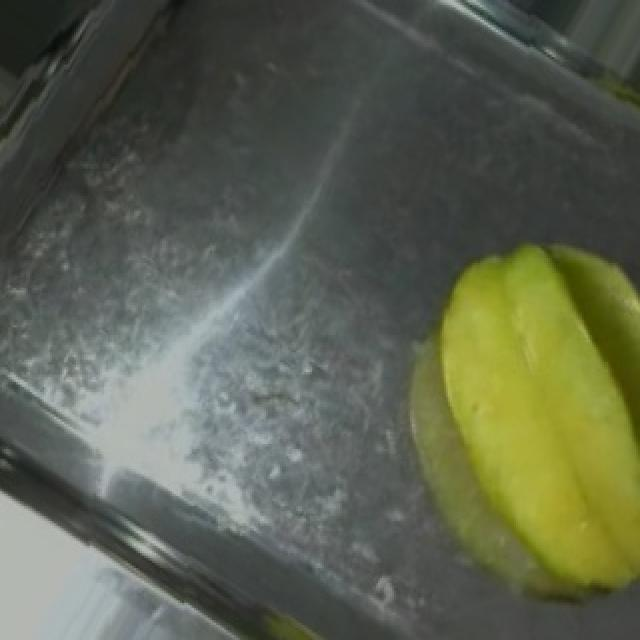fruit: (356, 203, 640, 583)
